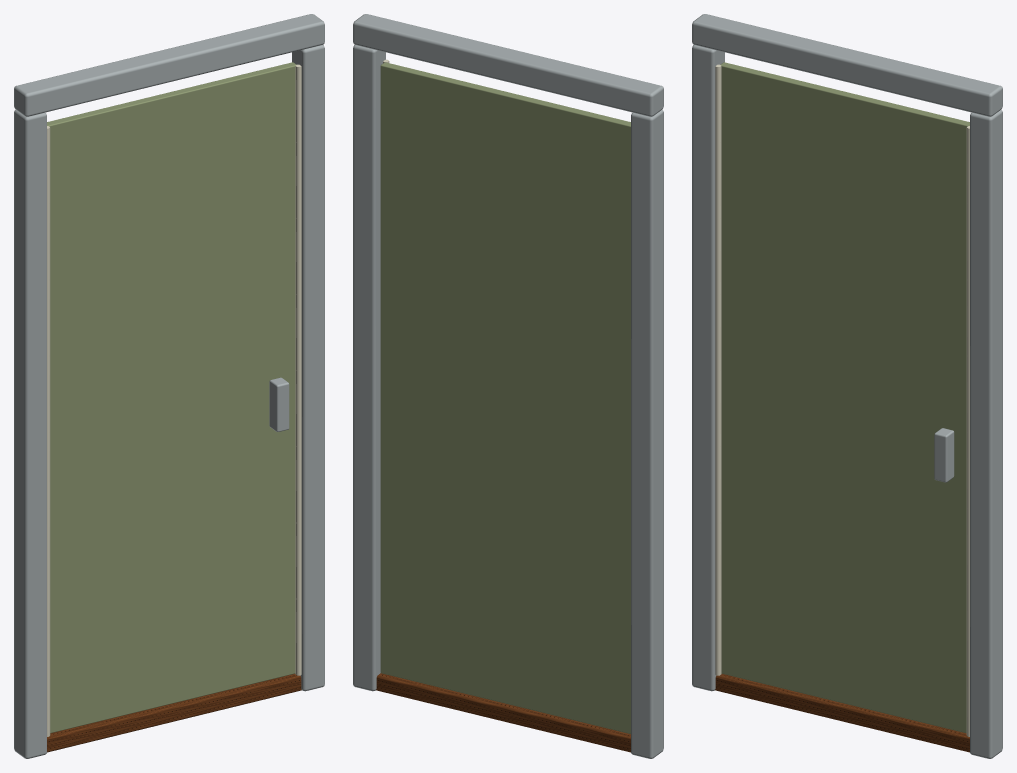
File: survival-greenhouse-and-irrigation-greenhouse-door-126b3582__21308.glb
3 renders of one model, left to right at view 1: azimuth 30°, elevation 25°; view 2: azimuth 150°, elevation 25°; view 3: azimuth 330°, elevation 25°, orthographic.
Visible parts, largest first — view 1: door/canvas, door/metal, door/ivory, door/wood; view 2: door/canvas, door/metal, door/wood; view 3: door/canvas, door/metal, door/ivory, door/wood.
Boxes of the visible parts, <box> form: door/canvas: <box>47,62,296,733</box>; door/metal: <box>14,14,324,758</box>; door/ivory: <box>47,64,301,736</box>; door/wood: <box>47,674,301,752</box>; door/canvas: <box>380,62,630,733</box>; door/metal: <box>353,14,663,758</box>; door/wood: <box>376,673,630,752</box>; door/canvas: <box>720,62,969,733</box>; door/metal: <box>692,14,1002,758</box>; door/ivory: <box>715,64,969,736</box>; door/wood: <box>715,674,969,752</box>.
Size of the model in its own units: 0.93 by 1.97 by 0.0926.
4 materials, 1 textured.
